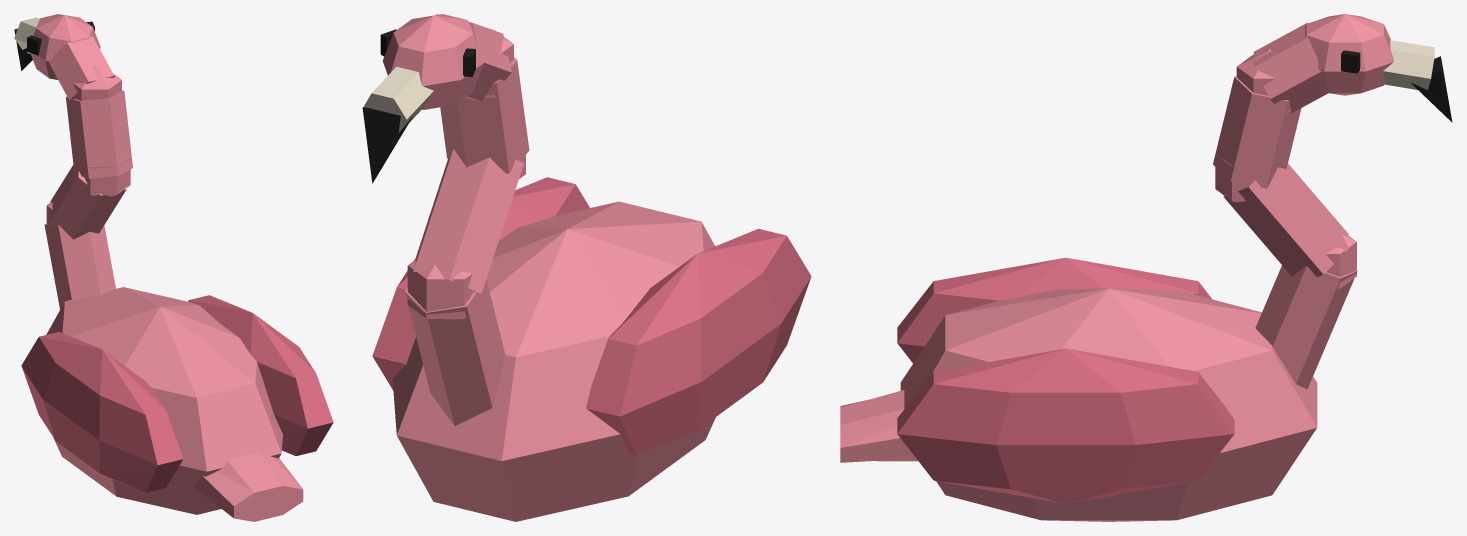
The model's file is animal_flamingo.obj.
3 views of the same model, side by side, from view 1: azimuth 30°, elevation 25°; view 2: azimuth 150°, elevation 25°; view 3: azimuth 270°, elevation 25° (orthographic). The views are drawn at different scales.
Parts seen in each view (by area): view 1: animal_flamingo; view 2: animal_flamingo; view 3: animal_flamingo.
Part boxes in pixels (left/top/right/bottom): animal_flamingo: left=14, top=14, right=333, bottom=521; animal_flamingo: left=362, top=14, right=811, bottom=521; animal_flamingo: left=840, top=14, right=1452, bottom=521.
Bounding box in the file's own units: 0.2832 × 0.522 × 0.57.
